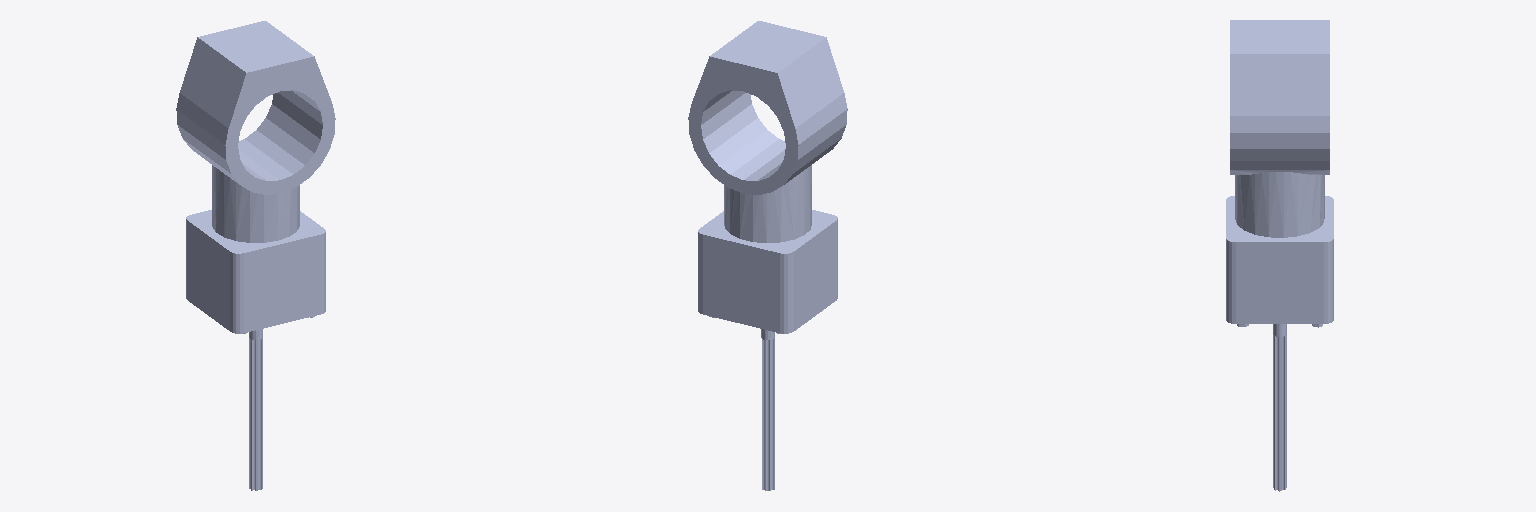
The robot description file, URDF, robot "Ensamble_robot_final":
<?xml version="1.0" encoding="utf-8"?>
<!-- This URDF was automatically created by SolidWorks to URDF Exporter! Originally created by [author] ([email redacted]) 
     Commit Version: 1.6.0-4-g7f85cfe  Build Version: 1.6.7995.38578
     For more information, please see http://wiki.ros.org/sw_urdf_exporter -->
<robot
  name="Ensamble_robot_final">
  <link
    name="base_link">
    <inertial>
      <origin
        xyz="7.28821085427267E-09 -0.0312986108746525 0.0932096931732312"
        rpy="0 0 0" />
      <mass
        value="20.0492472962775" />
      <inertia
        ixx="0.42456573822721"
        ixy="2.25689566012382E-08"
        ixz="5.84807332589748E-08"
        iyy="0.340168889865835"
        iyz="0.0409817615285214"
        izz="0.498794097553436" />
    </inertial>
    <visual>
      <origin
        xyz="0 0 0"
        rpy="0 0 0" />
      <geometry>
        <mesh
          filename="package://Ensamble_robot_final/meshes/base_link.STL" />
      </geometry>
      <material
        name="">
        <color
          rgba="0.792156862745098 0.819607843137255 0.933333333333333 1" />
      </material>
    </visual>
    <collision>
      <origin
        xyz="0 0 0"
        rpy="0 0 0" />
      <geometry>
        <mesh
          filename="package://Ensamble_robot_final/meshes/base_link.STL" />
      </geometry>
    </collision>
  </link>
  <link
    name="link_1">
    <inertial>
      <origin
        xyz="1.56254648109311E-10 -7.87726645271316E-16 0.373075746734315"
        rpy="0 0 0" />
      <mass
        value="39.1896246119642" />
      <inertia
        ixx="0.759744390185537"
        ixy="-3.39614758915942E-09"
        ixz="3.42502037075738E-09"
        iyy="0.831766902274228"
        iyz="-5.39816054409888E-17"
        izz="0.295622833052641" />
    </inertial>
    <visual>
      <origin
        xyz="0 0 0"
        rpy="0 0 0" />
      <geometry>
        <mesh
          filename="package://Ensamble_robot_final/meshes/link_1.STL" />
      </geometry>
      <material
        name="">
        <color
          rgba="0.898039215686275 0.917647058823529 0.929411764705882 1" />
      </material>
    </visual>
    <collision>
      <origin
        xyz="0 0 0"
        rpy="0 0 0" />
      <geometry>
        <mesh
          filename="package://Ensamble_robot_final/meshes/link_1.STL" />
      </geometry>
    </collision>
  </link>
  <joint
    name="joint_1"
    type="revolute">
    <origin
      xyz="0 0 0"
      rpy="0 0 0" />
    <parent
      link="base_link" />
    <child
      link="link_1" />
    <axis
      xyz="0 0 1" />
    <limit
      lower="-3.142"
      upper="3.142"
      effort="300"
      velocity="3" />
  </joint>
  <link
    name="link_2">
    <inertial>
      <origin
        xyz="0 0.191560014270782 -9.64251929778137E-18"
        rpy="0 0 0" />
      <mass
        value="41.7432461481157" />
      <inertia
        ixx="1.9310205220817"
        ixy="-1.83162657883282E-16"
        ixz="4.05786764053947E-12"
        iyy="0.423793811309006"
        iyz="5.85586251310983E-17"
        izz="1.67596873799866" />
    </inertial>
    <visual>
      <origin
        xyz="0 0 0"
        rpy="0 0 0" />
      <geometry>
        <mesh
          filename="package://Ensamble_robot_final/meshes/link_2.STL" />
      </geometry>
      <material
        name="">
        <color
          rgba="0.898039215686275 0.917647058823529 0.929411764705882 1" />
      </material>
    </visual>
    <collision>
      <origin
        xyz="0 0 0"
        rpy="0 0 0" />
      <geometry>
        <mesh
          filename="package://Ensamble_robot_final/meshes/link_2.STL" />
      </geometry>
    </collision>
  </link>
  <joint
    name="joint_2"
    type="revolute">
    <origin
      xyz="0 0 0.496"
      rpy="1.5708 0 0" />
    <parent
      link="link_1" />
    <child
      link="link_2" />
    <axis
      xyz="0 0 1" />
    <limit
      lower="-1.57"
      upper="1.57"
      effort="200"
      velocity="3" />
  </joint>
  <link
    name="link_3">
    <inertial>
      <origin
        xyz="0.121182198441889 -0.136185998839769 -0.0100000000304142"
        rpy="0 0 0" />
      <mass
        value="32.5621952947336" />
      <inertia
        ixx="0.913688737120272"
        ixy="0.107723690437499"
        ixz="-1.24695184677513E-09"
        iyy="0.203128735188212"
        iyz="-2.19257314381973E-11"
        izz="1.00099194800661" />
    </inertial>
    <visual>
      <origin
        xyz="0 0 0"
        rpy="0 0 0" />
      <geometry>
        <mesh
          filename="package://Ensamble_robot_final/meshes/link_3.STL" />
      </geometry>
      <material
        name="">
        <color
          rgba="0.898039215686275 0.917647058823529 0.929411764705882 1" />
      </material>
    </visual>
    <collision>
      <origin
        xyz="0 0 0"
        rpy="0 0 0" />
      <geometry>
        <mesh
          filename="package://Ensamble_robot_final/meshes/link_3.STL" />
      </geometry>
    </collision>
  </link>
  <joint
    name="joint_3"
    type="revolute">
    <origin
      xyz="0 0.5 0"
      rpy="-3.1416 0 1.8978" />
    <parent
      link="link_2" />
    <child
      link="link_3" />
    <axis
      xyz="0 0 -1" />
    <limit
      lower="-3.142"
      upper="0"
      effort="200"
      velocity="3" />
  </joint>
  <link
    name="link_4">
    <inertial>
      <origin
        xyz="-8.88855227509922E-06 0.0926229710681017 0.0100024098888781"
        rpy="0 0 0" />
      <mass
        value="2.22259173055462" />
      <inertia
        ixx="0.0202463092846155"
        ixy="2.76633683952841E-06"
        ixz="-1.77024807333704E-08"
        iyy="0.00422710562995253"
        iyz="-9.12913840632942E-07"
        izz="0.020821809914009" />
    </inertial>
    <visual>
      <origin
        xyz="0 0 0"
        rpy="0 0 0" />
      <geometry>
        <mesh
          filename="package://Ensamble_robot_final/meshes/link_4.STL" />
      </geometry>
      <material
        name="">
        <color
          rgba="0.792156862745098 0.819607843137255 0.933333333333333 1" />
      </material>
    </visual>
    <collision>
      <origin
        xyz="0 0 0"
        rpy="0 0 0" />
      <geometry>
        <mesh
          filename="package://Ensamble_robot_final/meshes/link_4.STL" />
      </geometry>
    </collision>
  </link>
  <joint
    name="joint_4"
    type="revolute">
    <origin
      xyz="0.145 -0.42746 0"
      rpy="3.1416 0 -1.2438" />
    <parent
      link="link_3" />
    <child
      link="link_4" />
    <axis
      xyz="0 0 -1" />
    <limit
      lower="-3.142"
      upper="0"
      effort="200"
      velocity="3" />
  </joint>
</robot>

--- What the picture shows (computed from the rendered views, not written in the file) ---
The picture shows the robot from 3 angles, left to right: view 1: azimuth 30°, elevation 25°; view 2: azimuth 150°, elevation 25°; view 3: azimuth 270°, elevation 25°; orthographic projection.
Model Ensamble_robot_final with 5 links and 4 joints (4 revolute), rooted at base_link, posed every joint at zero.
Links seen in each view (by area): view 1: link_4; view 2: link_4; view 3: link_4.
Boxes of the visible links, x1=… form: link_4: x1=176, y1=21, x2=335, y2=490; link_4: x1=688, y1=21, x2=847, y2=490; link_4: x1=1226, y1=20, x2=1333, y2=491.
Bounding box of the posed robot: 0.1296 × 0.1075 × 0.497 m (x, y, z).
Meshes: 5 distinct files referenced, 1 mesh visuals loaded (1 binary STL); not drawn: 4 (reference not matched to a file when rendering).